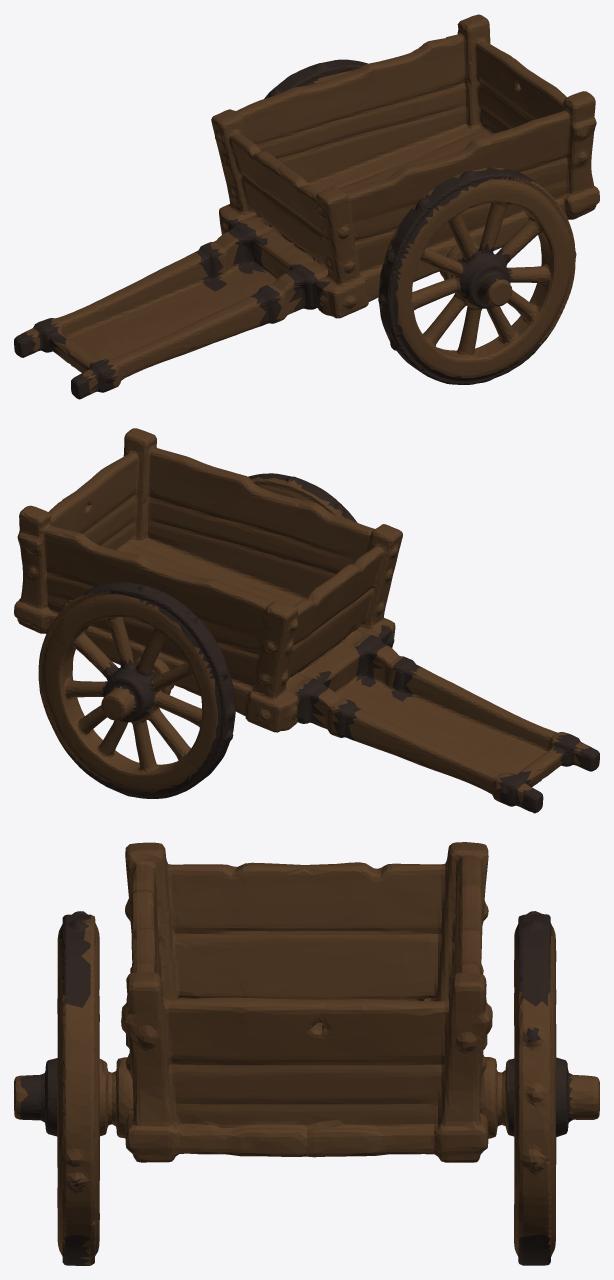
File: carroca.glb
3 views of the same model, one above another, from view 1: azimuth 30°, elevation 25°; view 2: azimuth 150°, elevation 25°; view 3: azimuth 270°, elevation 25° (orthographic). The views are drawn at different scales.
Visible parts, largest first — view 1: tmp7zfbmskp.ply; view 2: tmp7zfbmskp.ply; view 3: tmp7zfbmskp.ply.
Boxes of the visible parts, x1,y1,x2,y2 form: tmp7zfbmskp.ply: (14, 14, 599, 399); tmp7zfbmskp.ply: (14, 428, 599, 813); tmp7zfbmskp.ply: (14, 842, 599, 1265).
Size of the model in its own units: 1.96 by 0.9051 by 1.3.
